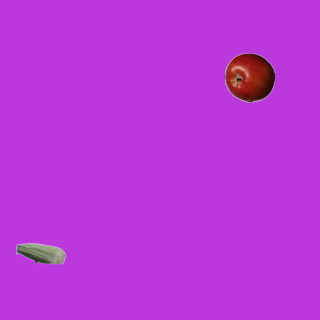Apple Braeburn: (224, 52, 274, 102)
Corn Husk: (15, 228, 65, 278)
